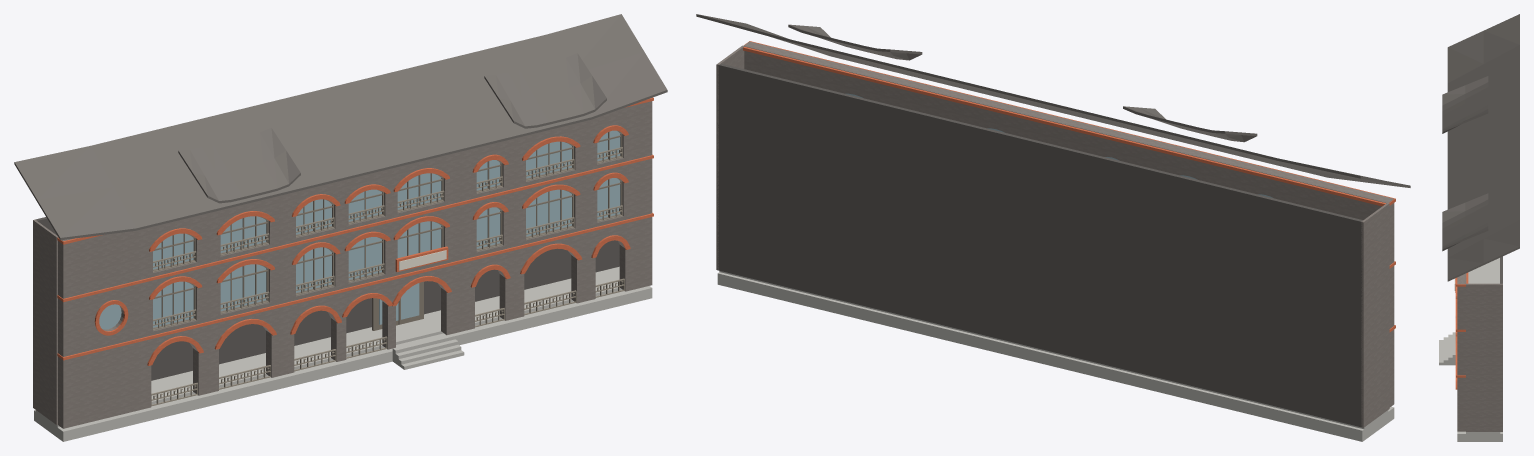
Rendered from lod-source.glb.
3 renders of one model, left to right at view 1: azimuth 30°, elevation 25°; view 2: azimuth 150°, elevation 25°; view 3: azimuth 270°, elevation 25°, orthographic. The views are drawn at different scales.
Visible parts, largest first — view 1: 圣约翰大学科学馆（格致楼42号）西院券廊; view 2: 圣约翰大学科学馆（格致楼42号）西院券廊; view 3: 圣约翰大学科学馆（格致楼42号）西院券廊.
Boxes of the visible parts, box(x1,y1,x2,y2) form: 圣约翰大学科学馆（格致楼42号）西院券廊: box(14, 14, 667, 441); 圣约翰大学科学馆（格致楼42号）西院券廊: box(696, 14, 1410, 441); 圣约翰大学科学馆（格致楼42号）西院券廊: box(1439, 14, 1519, 441).
Bounding box in the file's own units: 33.85 × 13.48 × 4.96.
9 materials, 2 textured.
